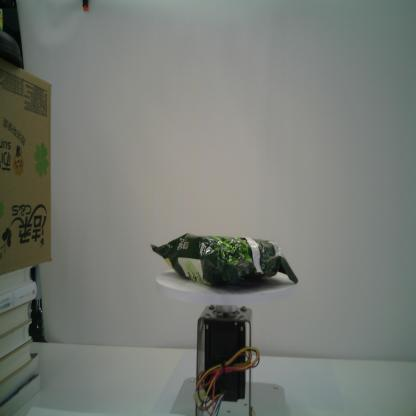Instant Noodles: (147, 228, 300, 290)
